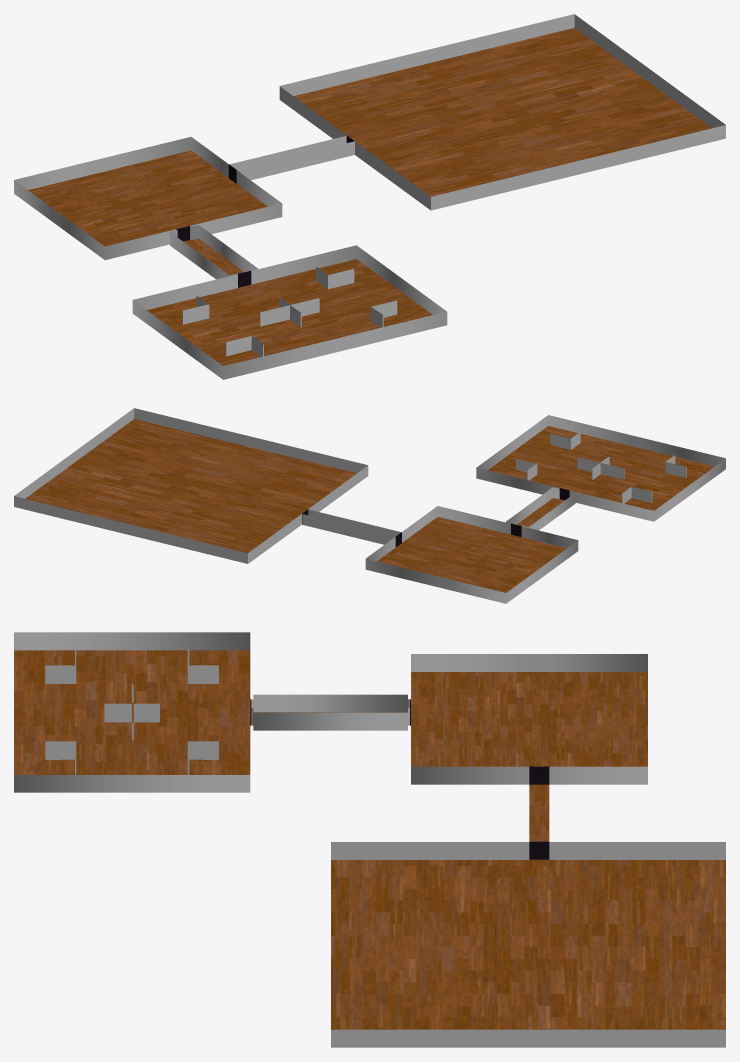
File: locationUnityAndrey2.fbx
The picture shows the model from 3 angles, top to bottom: view 1: azimuth 30°, elevation 25°; view 2: azimuth 150°, elevation 25°; view 3: azimuth 270°, elevation 25°; orthographic projection. The views are drawn at different scales.
Parts seen in each view (by area): view 1: Plane.026, Plane.023, Plane.020, Plane.025, Plane.021, Plane.017, Plane.024, Plane.019, Plane.022, Plane.016, Plane.027; view 2: Plane.026, Plane.023, Plane.020, Plane.025, Plane.021, Plane.017, Plane.024, Plane.019, Plane.016, Plane.022, Plane.027; view 3: Plane.026, Plane.023, Plane.025, Plane.020, Plane.021, Plane.017, Plane.019, Plane.024, Plane.018.
Part boxes in pixels (bbox=[...]): Plane.026: bbox=[294, 28, 711, 196]; Plane.023: bbox=[147, 259, 432, 365]; Plane.020: bbox=[279, 14, 725, 210]; Plane.025: bbox=[28, 150, 267, 246]; Plane.021: bbox=[132, 245, 447, 379]; Plane.017: bbox=[14, 137, 282, 259]; Plane.024: bbox=[182, 266, 397, 356]; Plane.019: bbox=[170, 225, 257, 279]; Plane.022: bbox=[237, 141, 354, 180]; Plane.016: bbox=[229, 136, 346, 169]; Plane.027: bbox=[183, 238, 243, 275]; Plane.026: bbox=[25, 419, 356, 552]; Plane.023: bbox=[488, 426, 714, 510]; Plane.020: bbox=[14, 408, 368, 563]; Plane.025: bbox=[377, 517, 566, 592]; Plane.021: bbox=[476, 415, 725, 521]; Plane.017: bbox=[365, 506, 578, 603]; Plane.024: bbox=[516, 432, 686, 503]; Plane.019: bbox=[506, 487, 575, 530]; Plane.016: bbox=[302, 514, 394, 544]; Plane.022: bbox=[308, 509, 400, 536]; Plane.027: bbox=[517, 498, 564, 526]; Plane.026: bbox=[331, 860, 725, 1029]; Plane.023: bbox=[14, 650, 250, 774]; Plane.025: bbox=[411, 672, 647, 766]; Plane.020: bbox=[331, 842, 725, 1047]; Plane.021: bbox=[14, 632, 250, 792]; Plane.017: bbox=[411, 654, 647, 784]; Plane.019: bbox=[251, 694, 409, 730]; Plane.024: bbox=[45, 649, 218, 774]; Plane.018: bbox=[529, 784, 549, 859].
Bounding box in the file's own units: 47399 × 996 × 35909.
